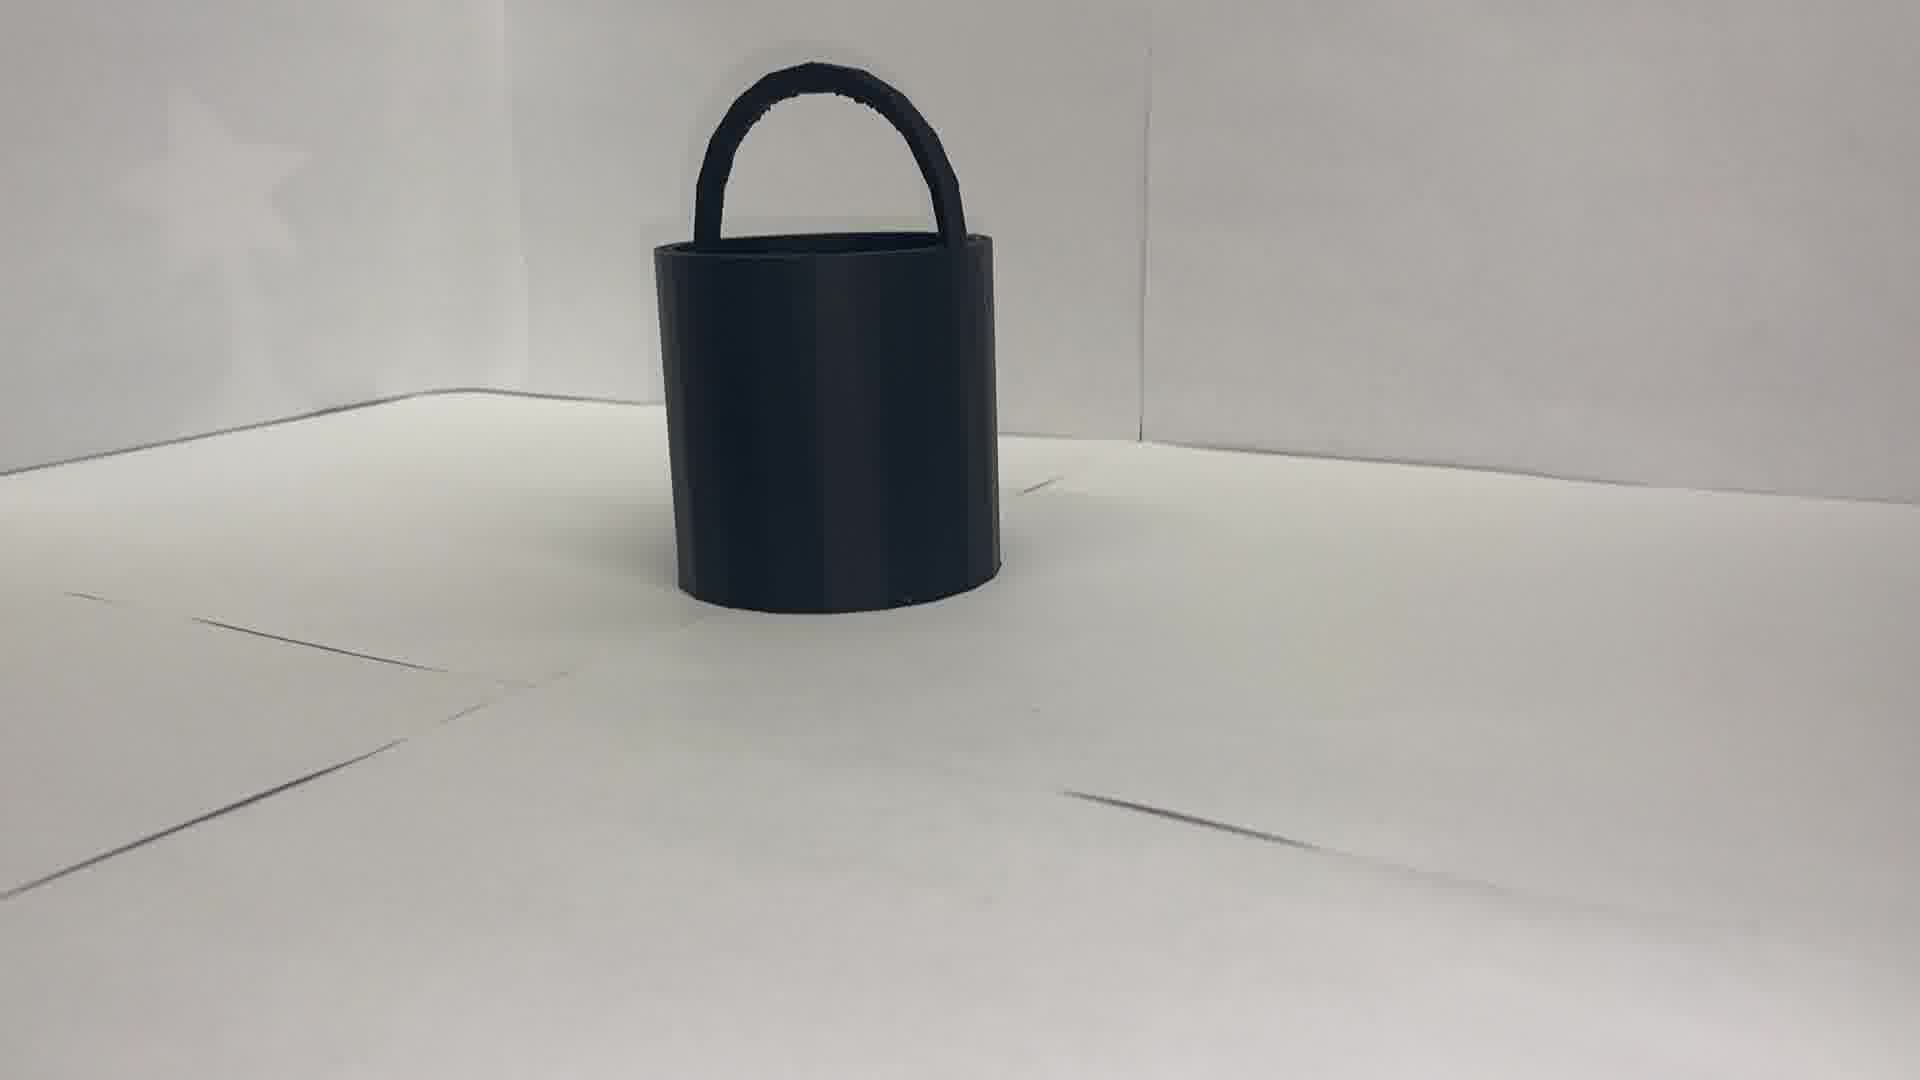bag: (636, 51, 1011, 618)
